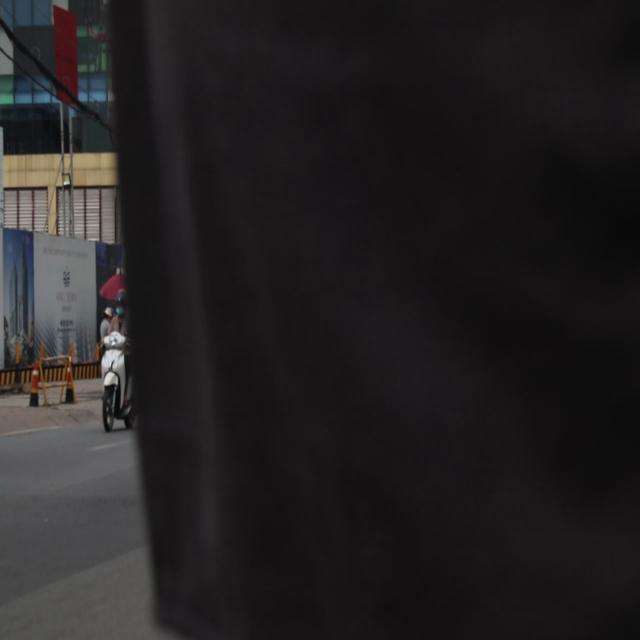motorbike: (99, 330, 133, 431)
